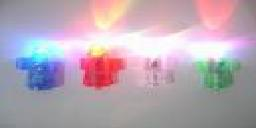LED: (77, 41, 121, 92), (23, 38, 59, 93), (142, 36, 177, 90), (198, 41, 237, 89)
